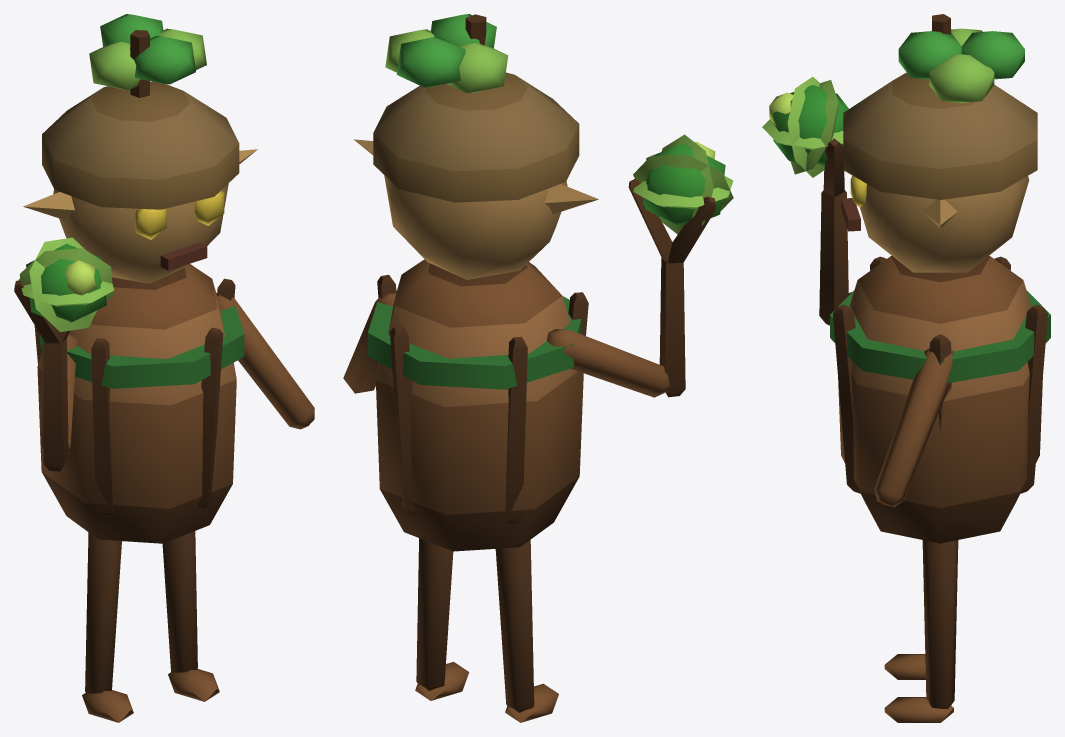
Rendered from e_wald_rankenwerfer.glb.
The picture shows the model from 3 angles, left to right: view 1: azimuth 30°, elevation 25°; view 2: azimuth 150°, elevation 25°; view 3: azimuth 270°, elevation 25°; orthographic projection. The views are drawn at different scales.
Parts seen in each view (by area): view 1: body; view 2: body; view 3: body.
Boxes of the visible parts, x1,y1,x2,y2 form: body: (14,14,314,722); body: (343,14,733,722); body: (762,14,1050,722).
Bounding box in the file's own units: 0.9111 × 1.77 × 0.68.
